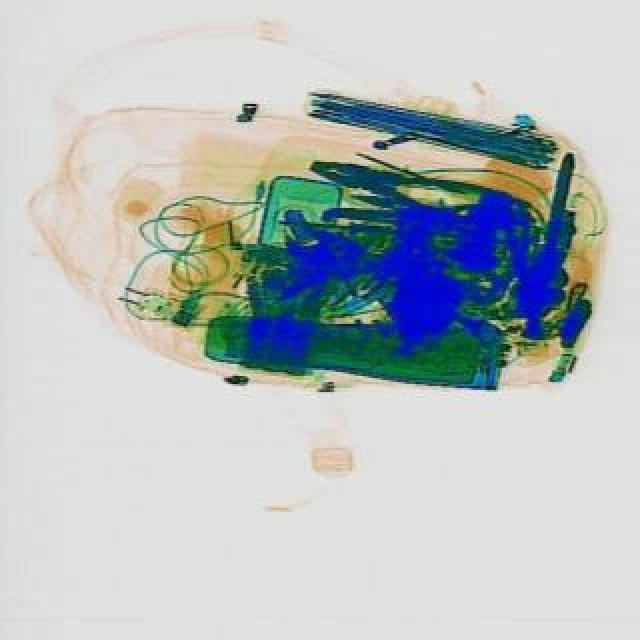wrench: (302, 146, 532, 242)
